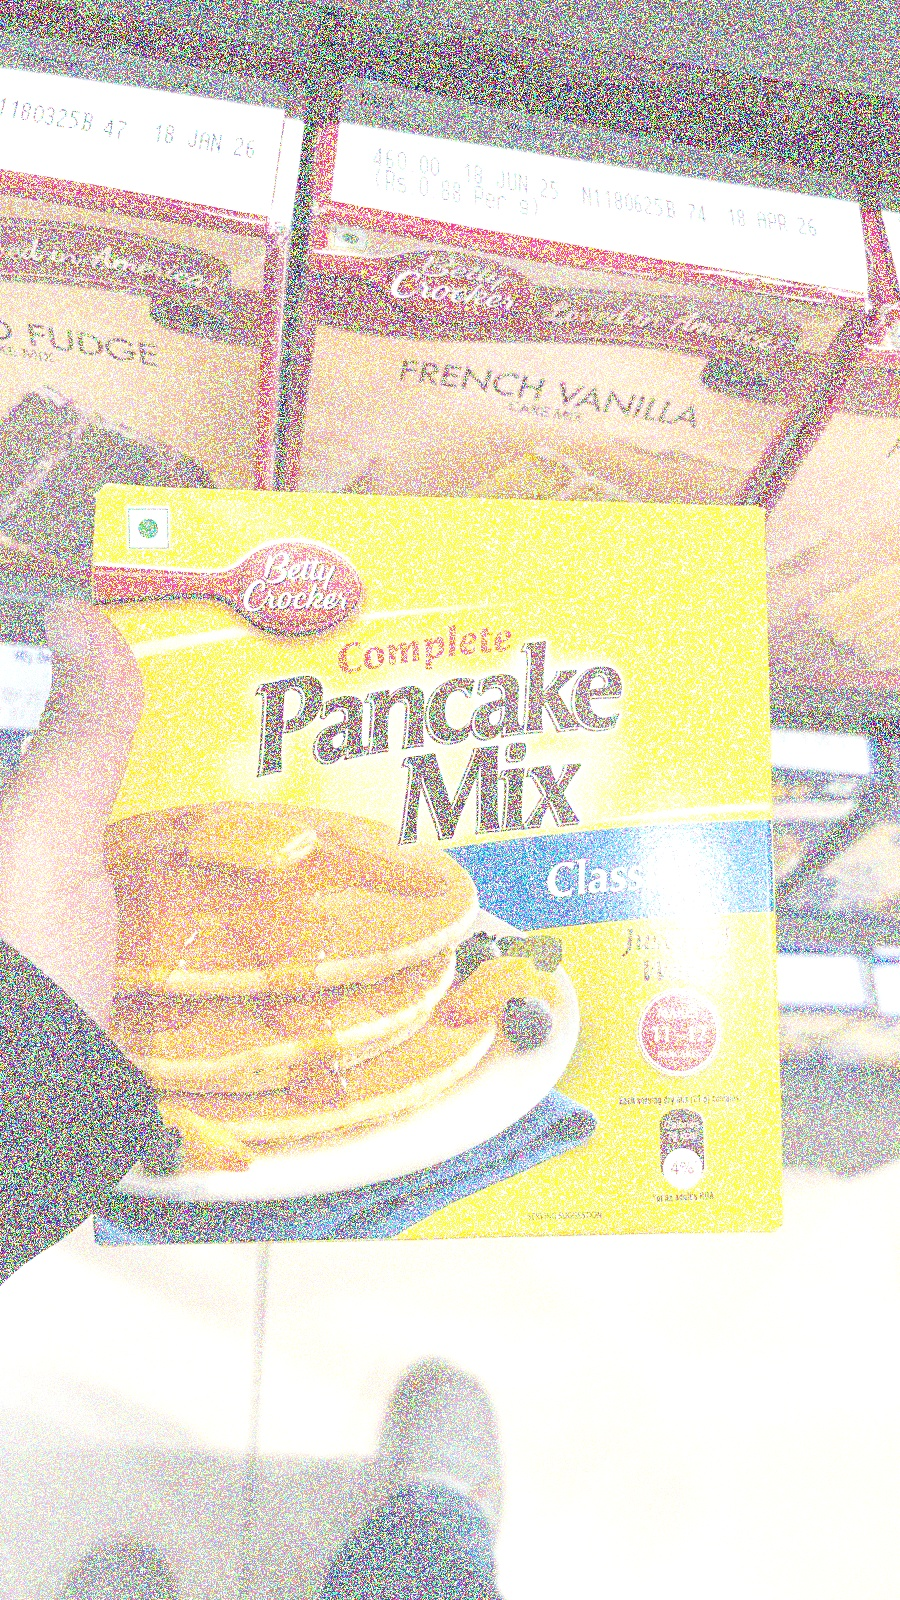Betty Crocker Pancake Mix: (88, 475, 800, 1262)
